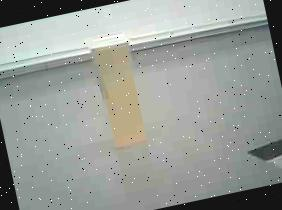Bottle A: (80, 24, 160, 155)
